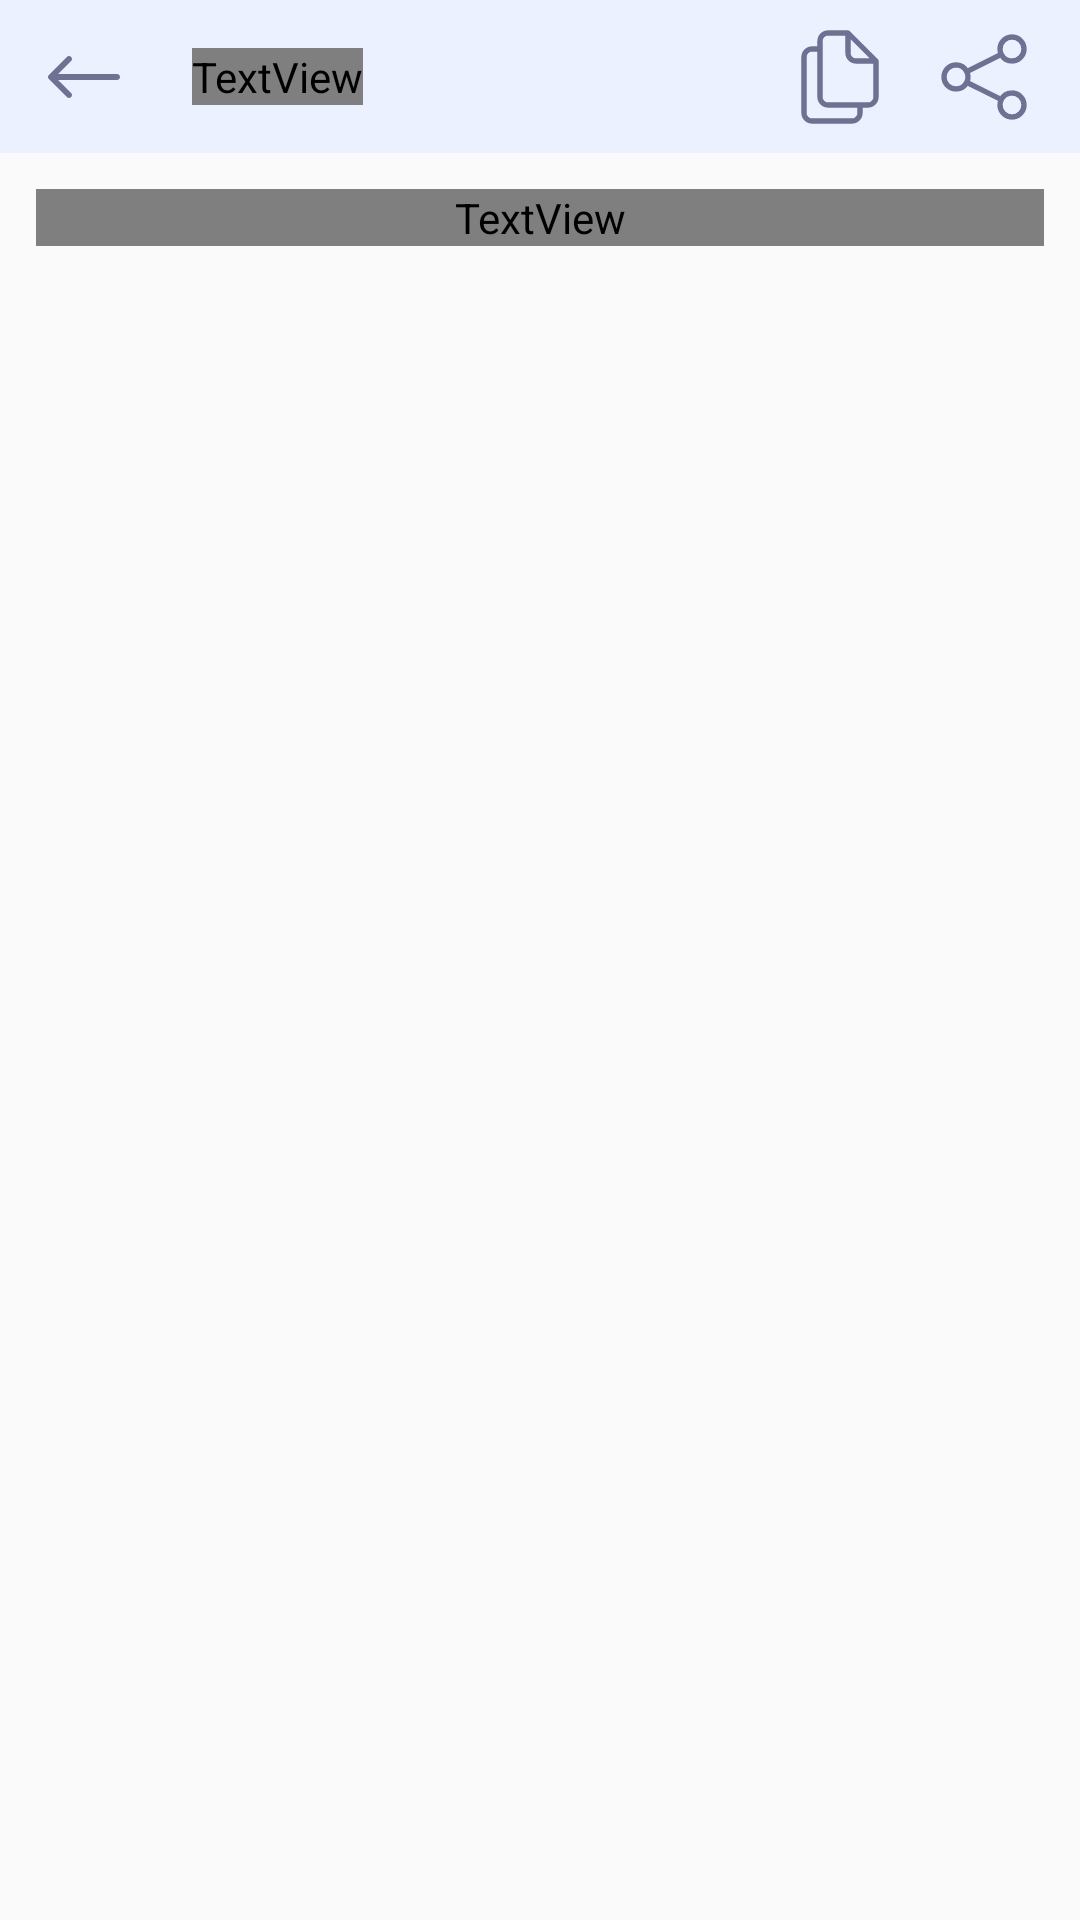

Icon click points for this 1080px x 1920px phone screenshot, format [x,y]:
back: [84,77]
share: [984,77]
